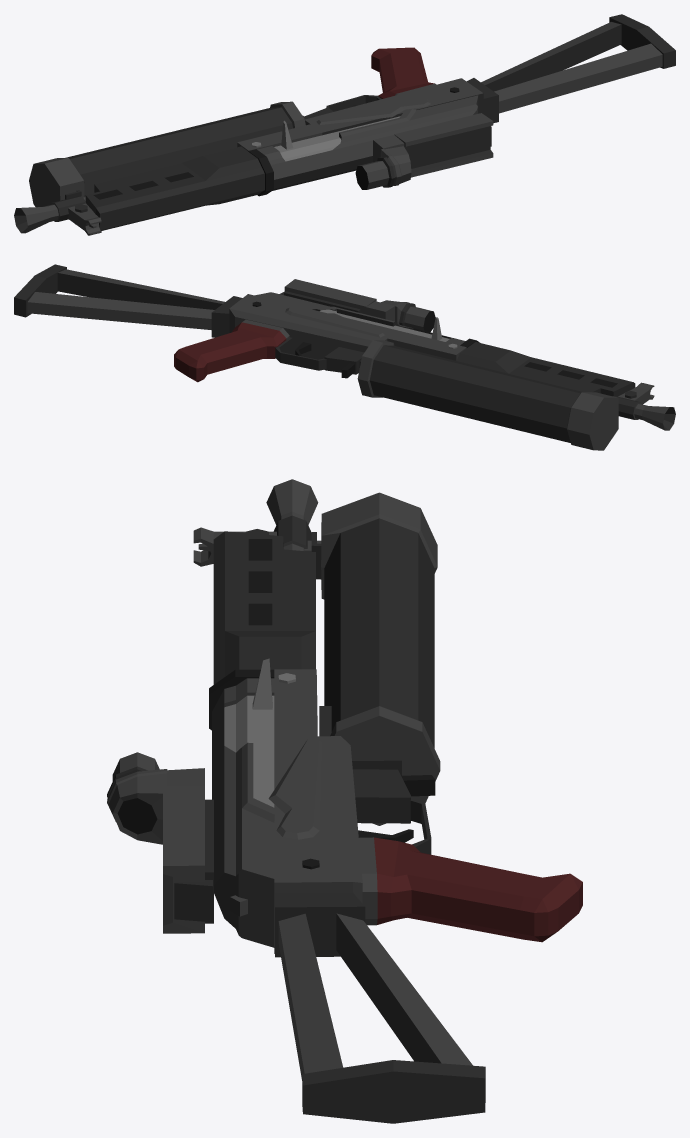
The model's file is Bizon_3D.glb.
3 views of the same model, one above another, from view 1: azimuth 30°, elevation 25°; view 2: azimuth 150°, elevation 25°; view 3: azimuth 270°, elevation 25° (orthographic). The views are drawn at different scales.
Parts seen in each view (by area): view 1: BizonLowPoly; view 2: BizonLowPoly; view 3: BizonLowPoly.
Part boxes in pixels (x1,y1,x2,y2): BizonLowPoly: (14, 14, 675, 235); BizonLowPoly: (14, 264, 675, 450); BizonLowPoly: (107, 479, 582, 1123).
Bounding box in the file's own units: 0.7285 × 0.0757 × 0.2454.
1 material, 1 textured.
